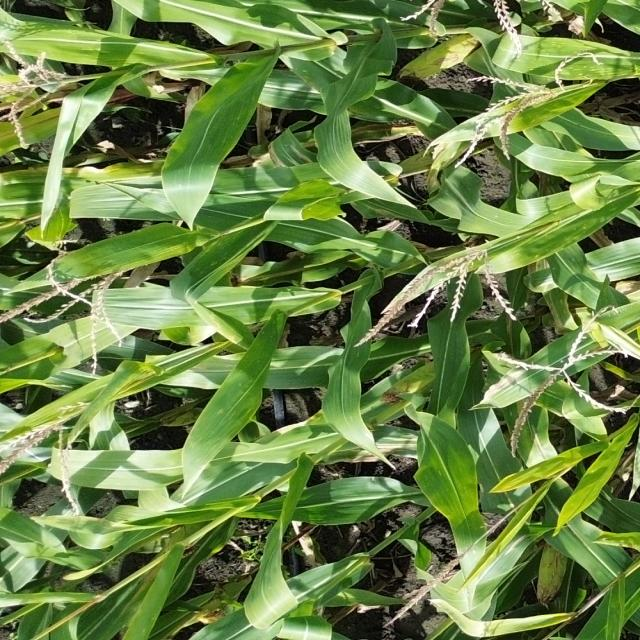gray-leaf-spot: (480, 25, 640, 83)
southern-leaf-blight: (82, 195, 281, 288), (184, 313, 293, 447), (415, 442, 506, 568), (477, 198, 621, 268)
